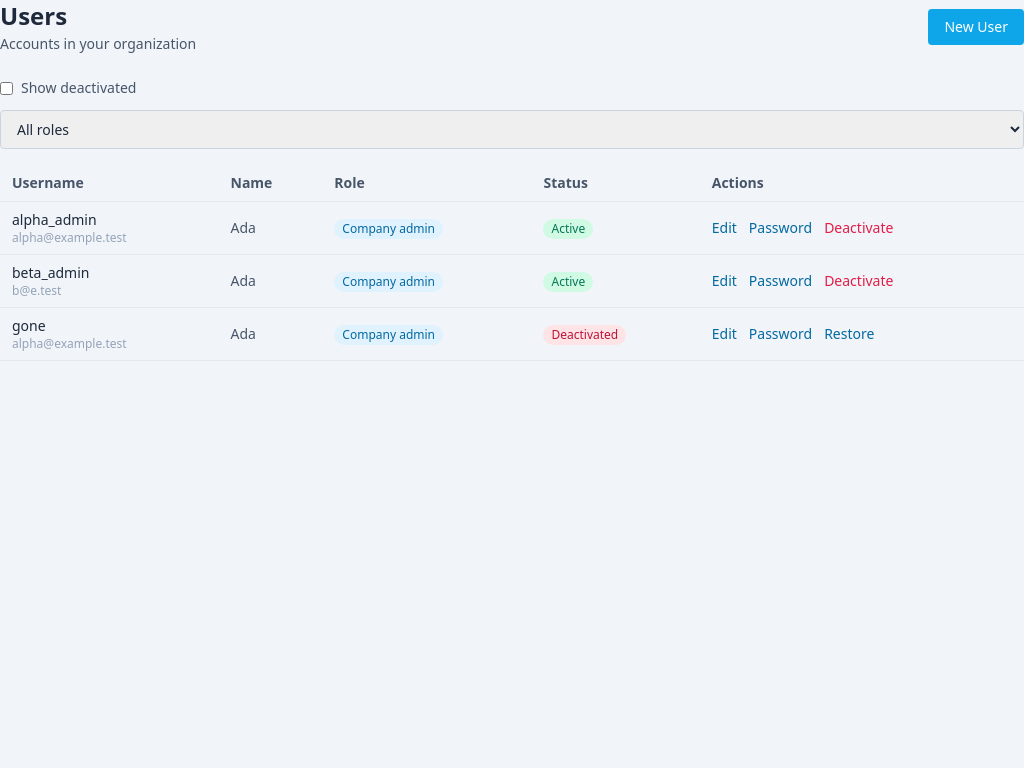
Test case: UsersPage › surfaces the server error message instead of a generic failure
Expected: the text "alpha_admin" is shown, [12,210,97,229]
Click the button "New User" at (976, 27), box [928,9,1023,45]
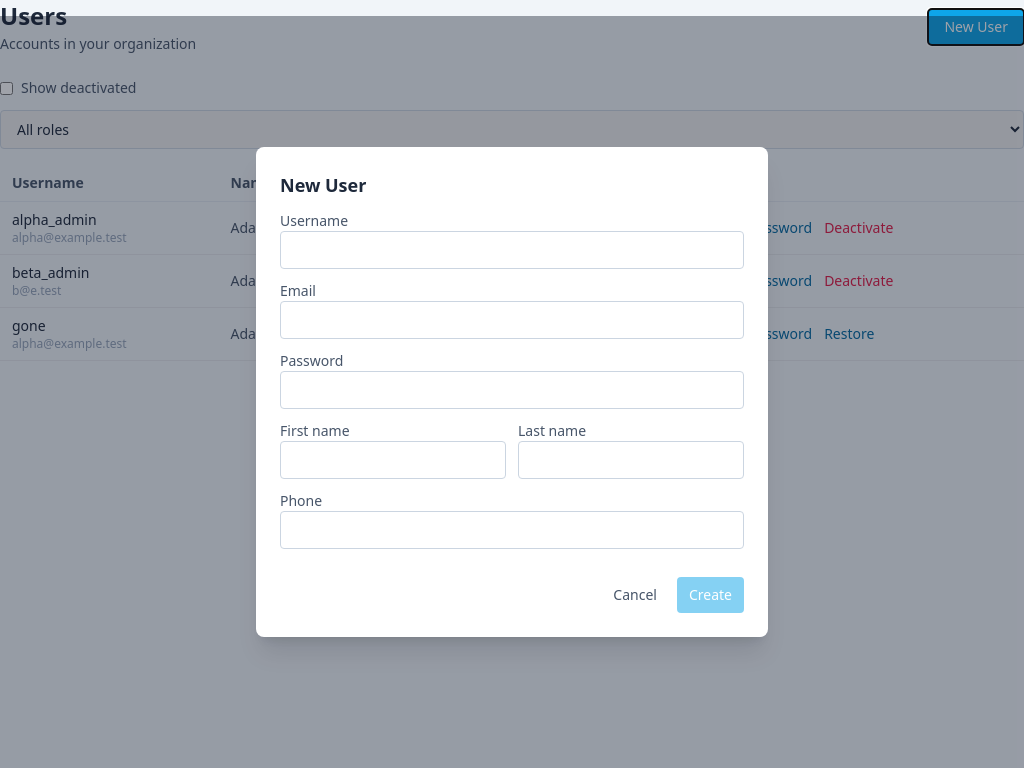
Type "taken" into the field labelled "Username" at (512, 250), box [280,231,744,269]
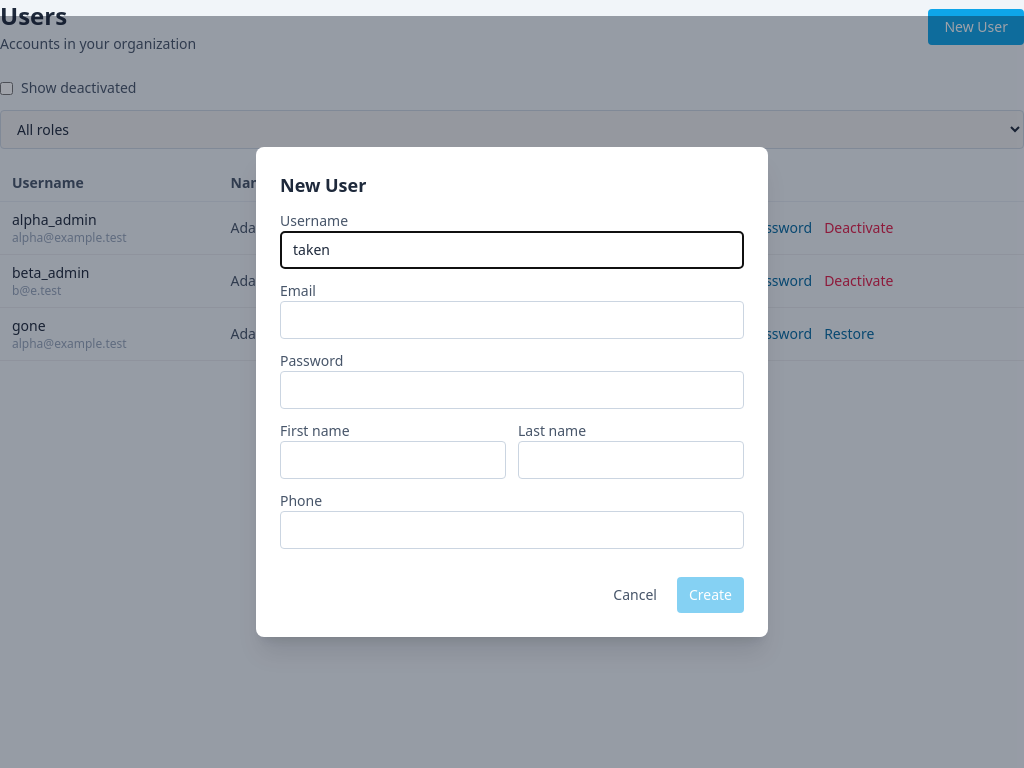
Type "taken@example.test" into the field labelled "Email" at (512, 320), box [280,301,744,339]
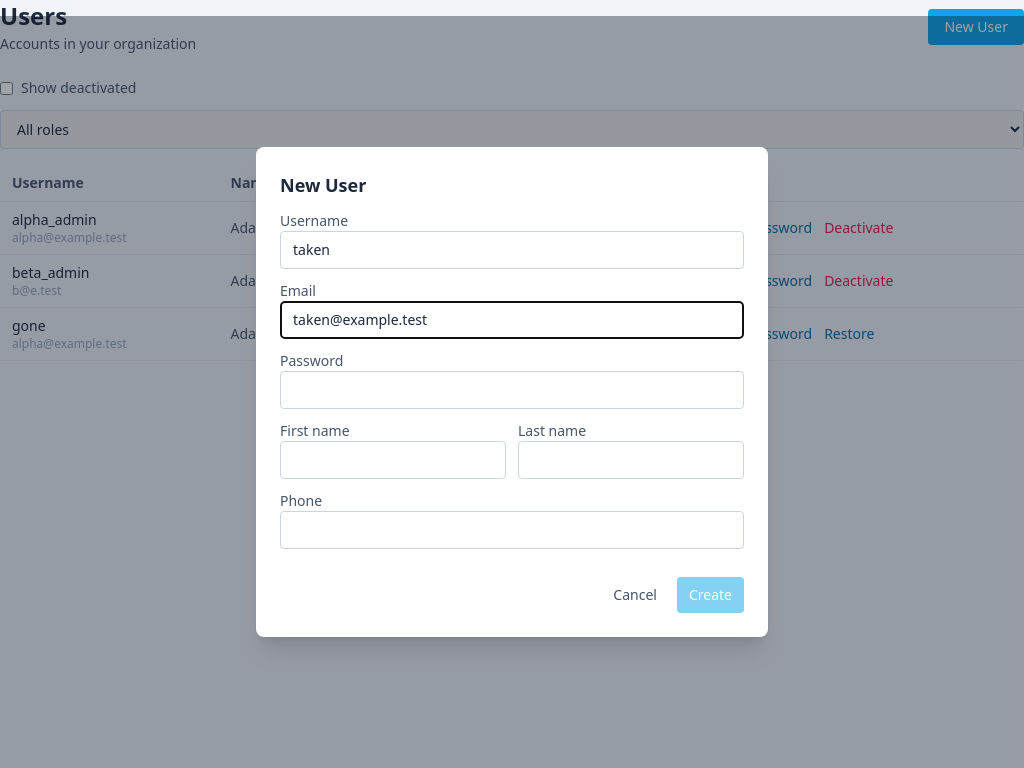
Type "Sup3rSecret!" into the password field labelled "Password" at (512, 390), box [280,371,744,409]
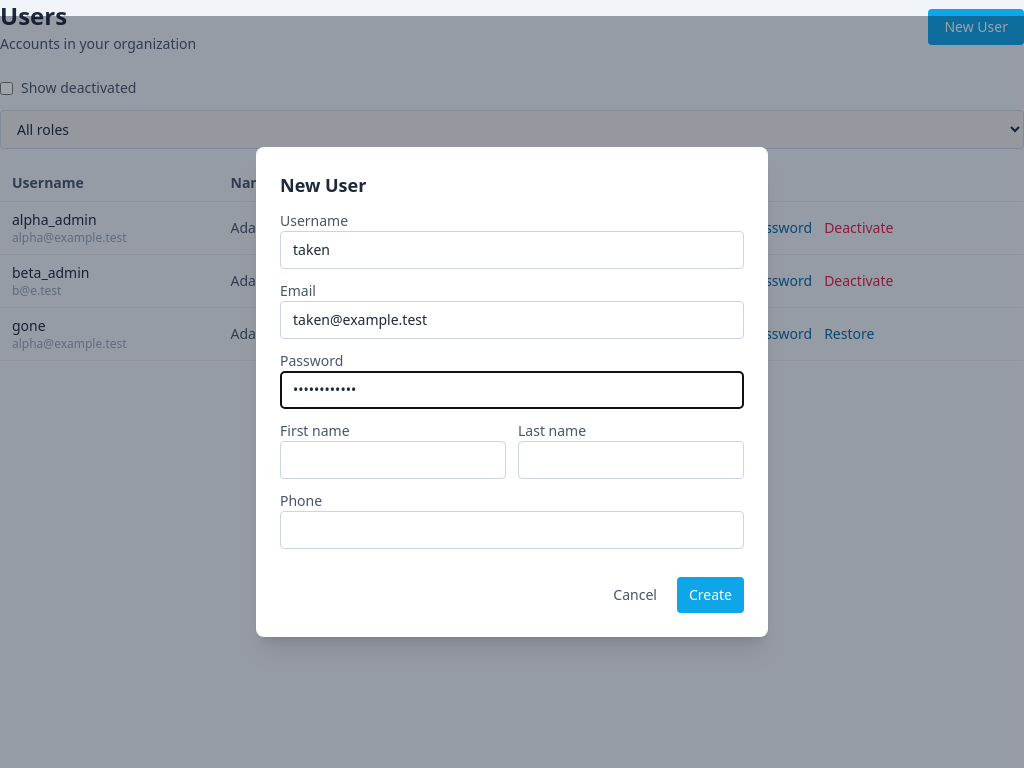
Click the button "Create" at (710, 595), box [677,577,744,613]
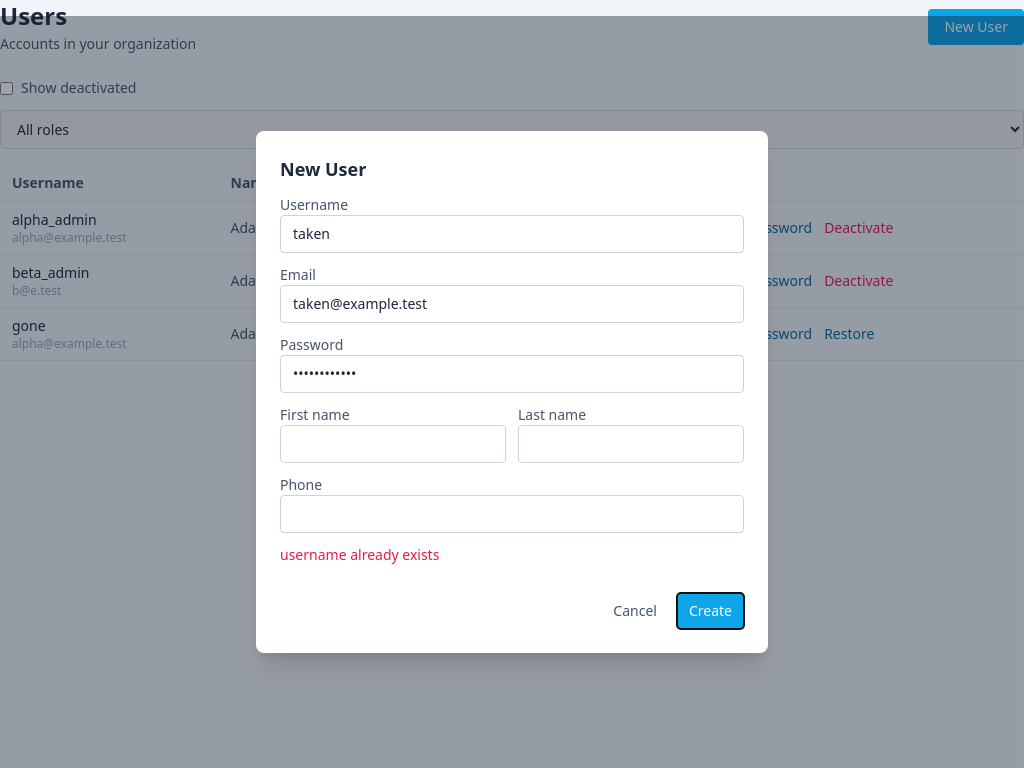
Expected: the text "username already exists" is shown, [280,545,439,564]
